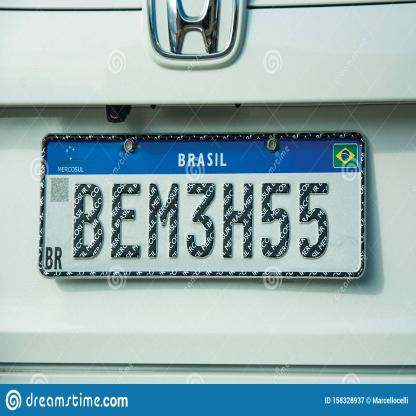Plates: (35, 131, 371, 287)
